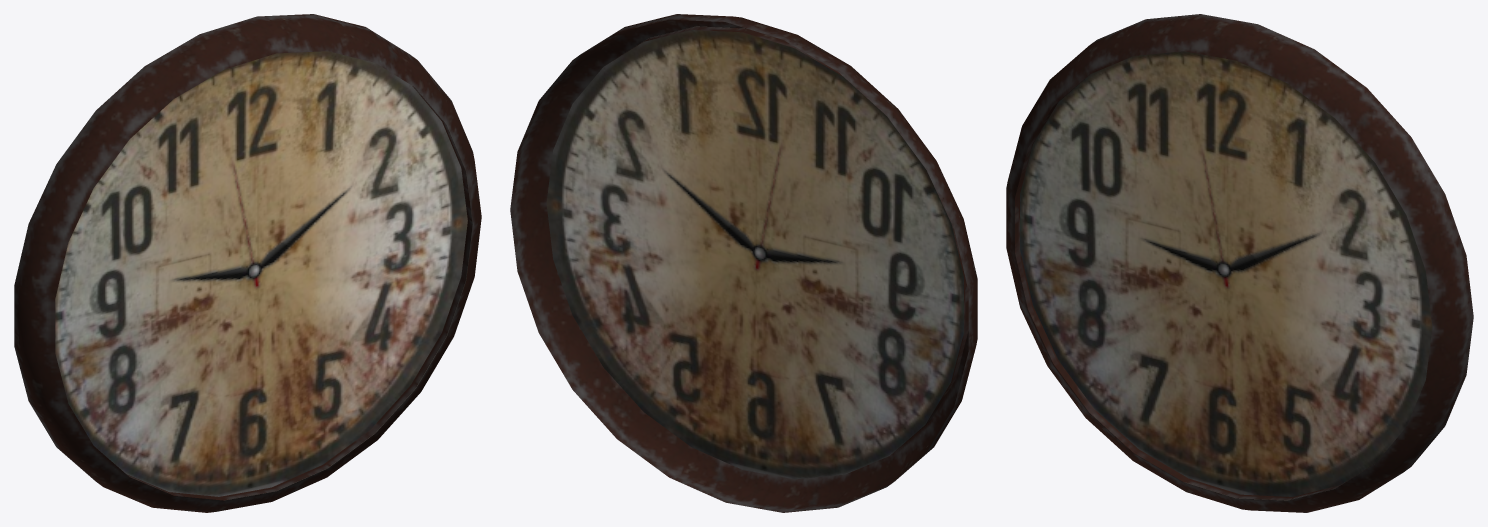
File: Clock.FBX
The picture shows the model from 3 angles, left to right: view 1: azimuth 30°, elevation 25°; view 2: azimuth 150°, elevation 25°; view 3: azimuth 330°, elevation 25°; orthographic projection.
Parts seen in each view (by area): view 1: Clock; view 2: Clock; view 3: Clock.
Part boxes in pixels (<box>): Clock: <box>14,14,481,512</box>; Clock: <box>510,14,977,512</box>; Clock: <box>1006,14,1473,512</box>.
Bounding box in the file's own units: 211 × 212 × 16.64.
